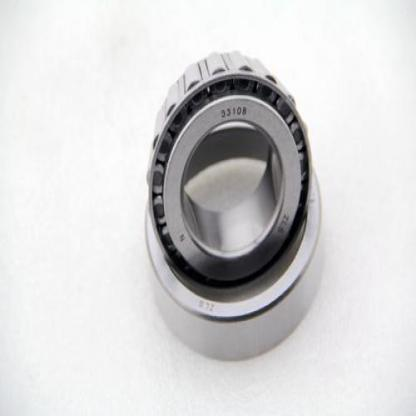FOD: (138, 39, 329, 363)
